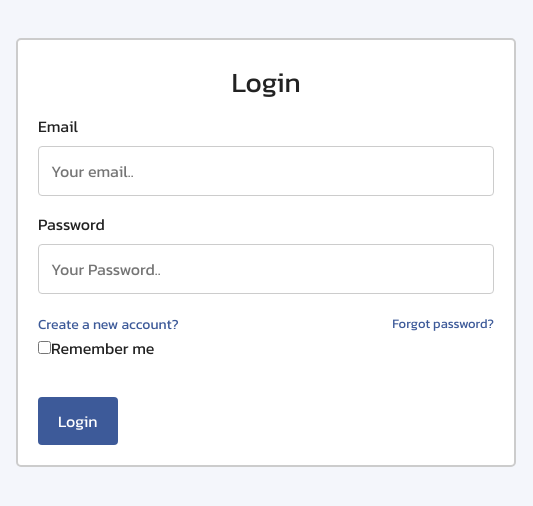
Login - field validation › shows error for invalid email format
Step 1. Type "notanemail" into the field with placeholder "Your email.." → (266, 171), box top-left (38, 146), bottom-right (494, 196)
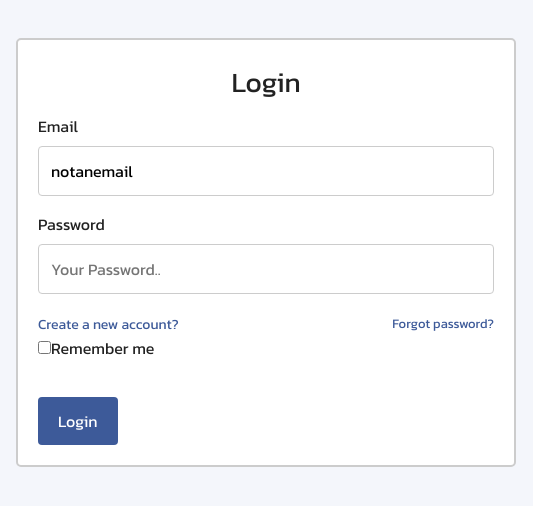
Step 2. Click the button showing "Login" → click(78, 422), box top-left (38, 398), bottom-right (118, 446)
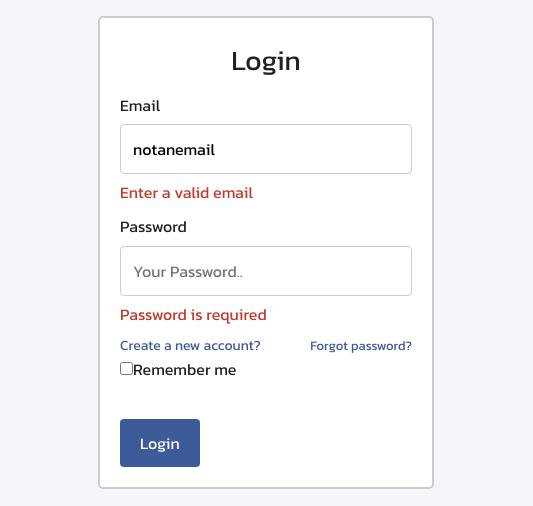
Now the text "Enter a valid email" is shown, box top-left (120, 180), bottom-right (253, 204)
